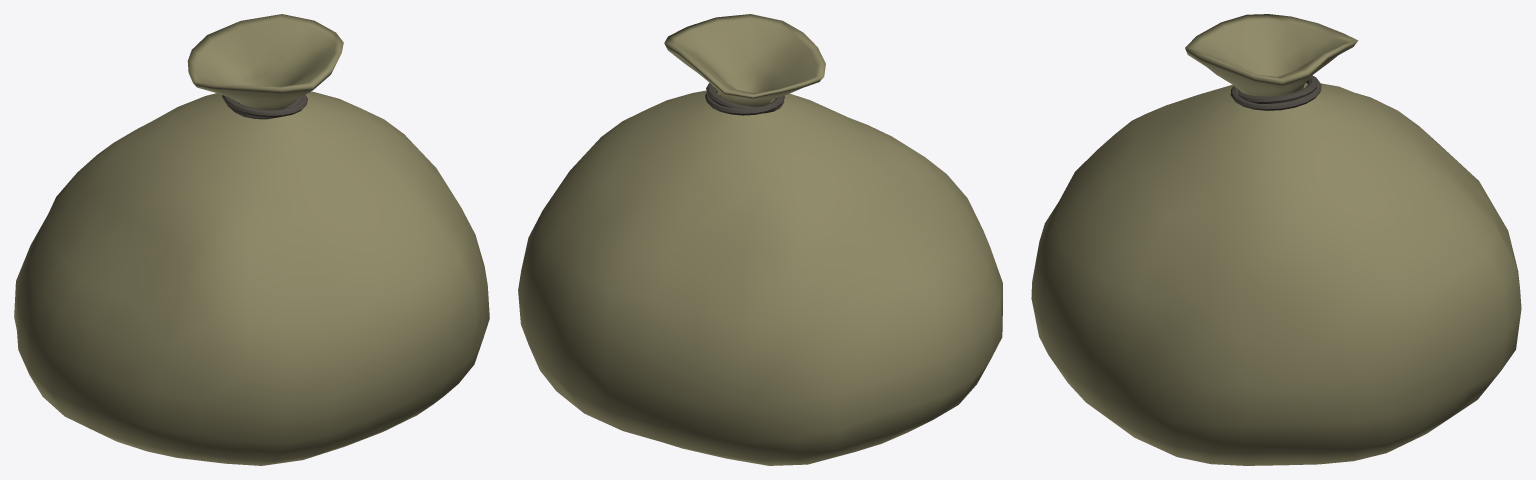
Rendered from sacco_soldi_vuoto_03.fbx.
3 renders of one model, left to right at view 1: azimuth 30°, elevation 25°; view 2: azimuth 150°, elevation 25°; view 3: azimuth 270°, elevation 25°, orthographic. The views are drawn at different scales.
Visible parts, largest first — view 1: MSH_sacco_soldi_vuoto_03; view 2: MSH_sacco_soldi_vuoto_03; view 3: MSH_sacco_soldi_vuoto_03.
Part boxes in pixels (x1,y1,x2,y2): MSH_sacco_soldi_vuoto_03: (14, 14, 489, 465); MSH_sacco_soldi_vuoto_03: (518, 14, 1002, 465); MSH_sacco_soldi_vuoto_03: (1031, 14, 1521, 465).
Size of the model in its own units: 5.33 by 4.3 by 5.18.
